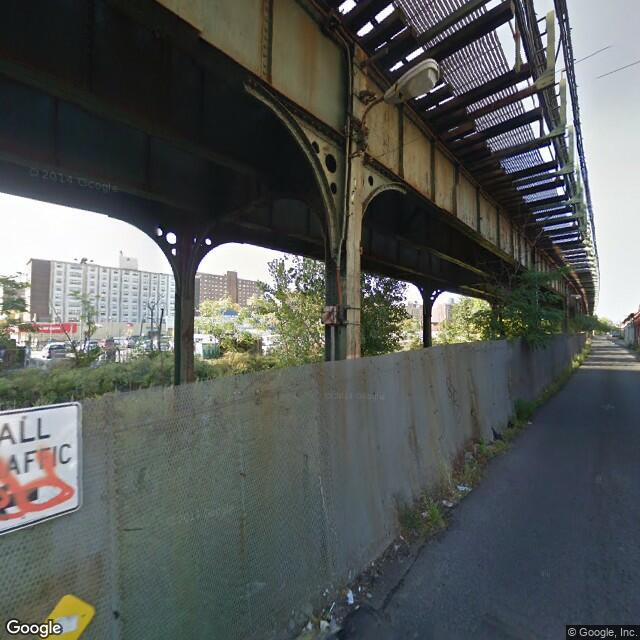litter: (345, 587, 356, 610), (296, 620, 315, 633), (453, 483, 472, 495), (442, 498, 456, 511), (390, 541, 402, 556), (421, 510, 433, 523), (319, 622, 331, 633), (364, 591, 376, 600), (524, 419, 533, 426)
